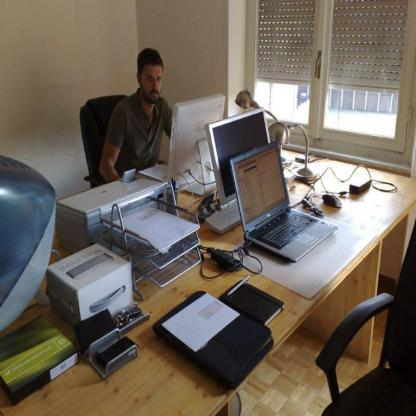board: (230, 141, 337, 262)
